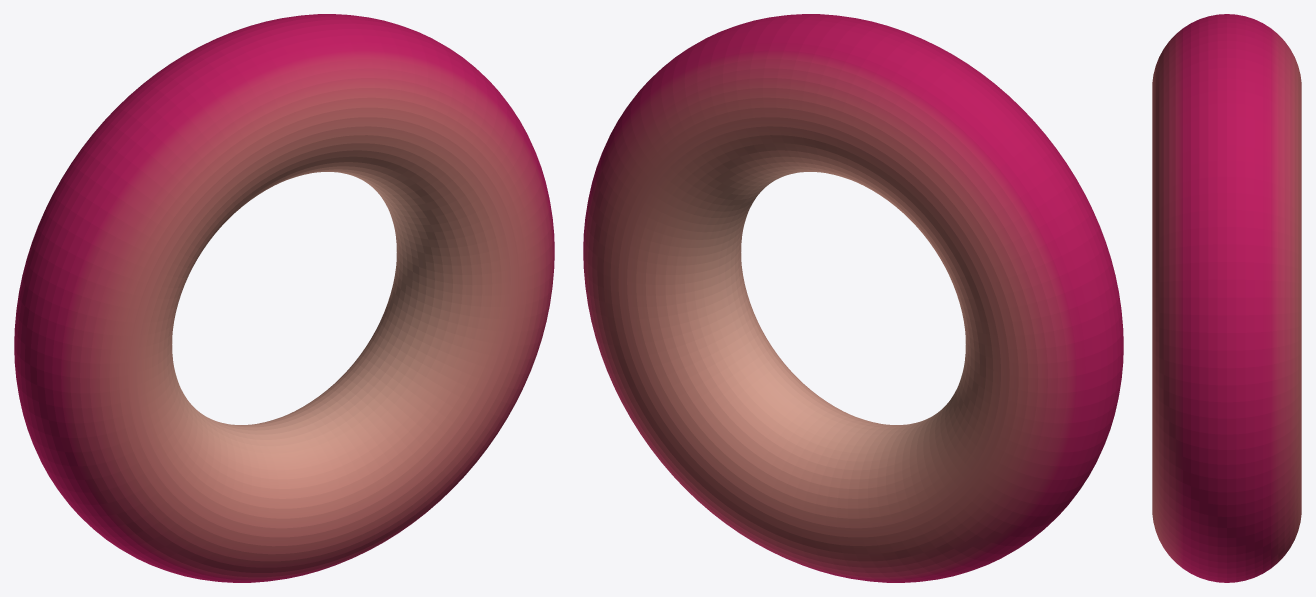
The picture shows the model from 3 angles, left to right: view 1: azimuth 30°, elevation 25°; view 2: azimuth 150°, elevation 25°; view 3: azimuth 270°, elevation 25°; orthographic projection. The views are drawn at different scales.
Visible parts, largest first — view 1: world; view 2: world; view 3: world.
Boxes of the visible parts, x1,y1,x2,y2 form: world: [14, 14, 554, 582]; world: [583, 14, 1123, 582]; world: [1152, 14, 1301, 582].
Size of the model in its own units: 29.87 by 29.87 by 7.85.
